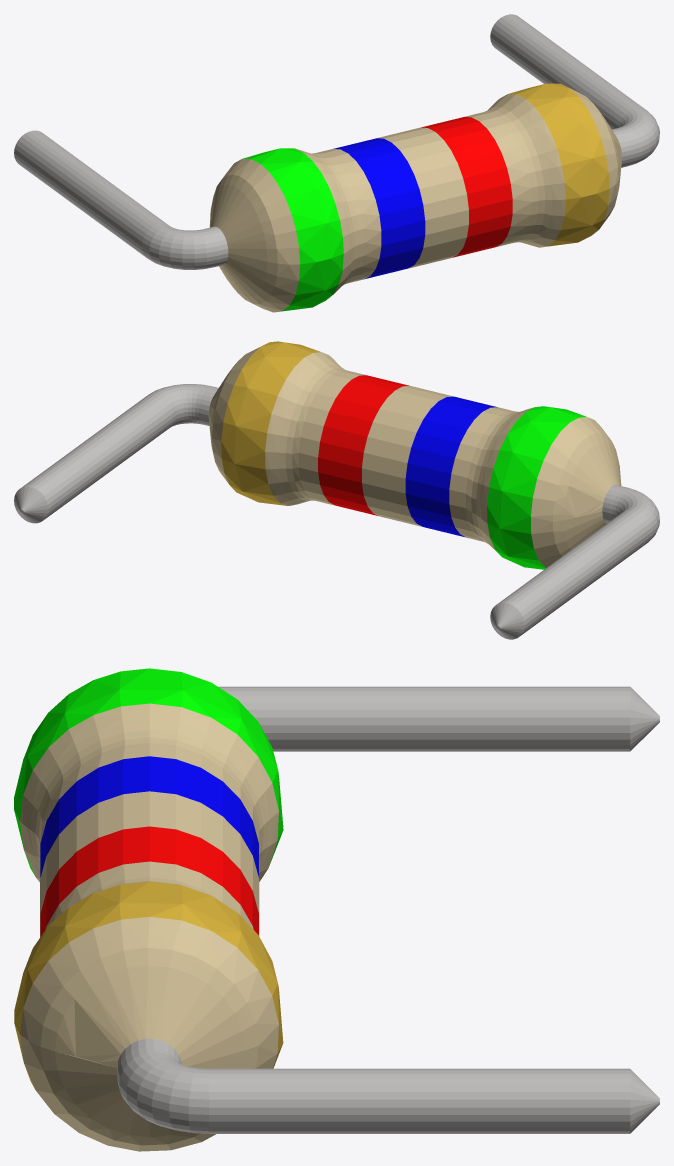
Rendered from Yageo CFR-25 Resistor Axial P7.62mm 5,6 kOhm.obj.
3 views of the same model, one above another, from view 1: azimuth 30°, elevation 25°; view 2: azimuth 150°, elevation 25°; view 3: azimuth 270°, elevation 25° (orthographic). The views are drawn at different scales.
Parts seen in each view (by area): view 1: Yageo_CFR-25_Resistor_Axial_P7.62mm_5,6_kOhm; view 2: Yageo_CFR-25_Resistor_Axial_P7.62mm_5,6_kOhm; view 3: Yageo_CFR-25_Resistor_Axial_P7.62mm_5,6_kOhm.
Part boxes in pixels (bbox=[...]): Yageo_CFR-25_Resistor_Axial_P7.62mm_5,6_kOhm: bbox=[14, 14, 659, 312]; Yageo_CFR-25_Resistor_Axial_P7.62mm_5,6_kOhm: bbox=[14, 341, 659, 639]; Yageo_CFR-25_Resistor_Axial_P7.62mm_5,6_kOhm: bbox=[14, 668, 659, 1151].
Size of the model in its own units: 0.0136 by 0.00377 by 0.00909.
